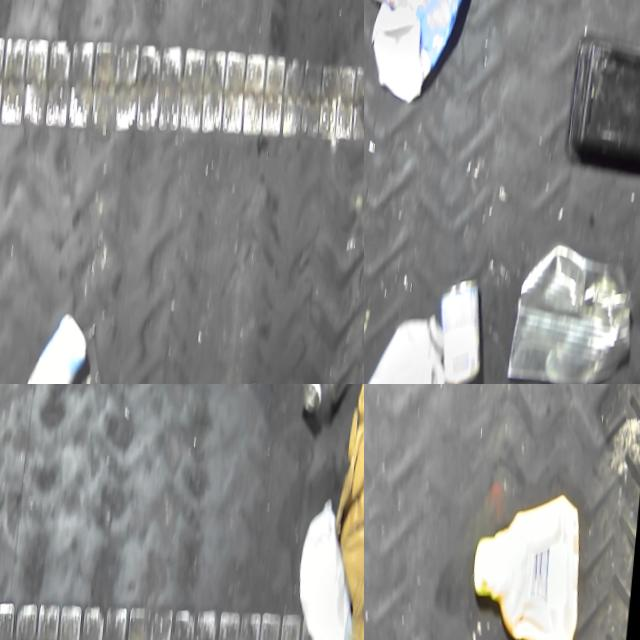can: (431, 270, 489, 384)
milk_jug: (285, 499, 364, 640), (364, 311, 448, 384)
non_white_jug: (464, 487, 589, 640), (370, 0, 476, 103)
plastic_bottle: (296, 384, 364, 424)
